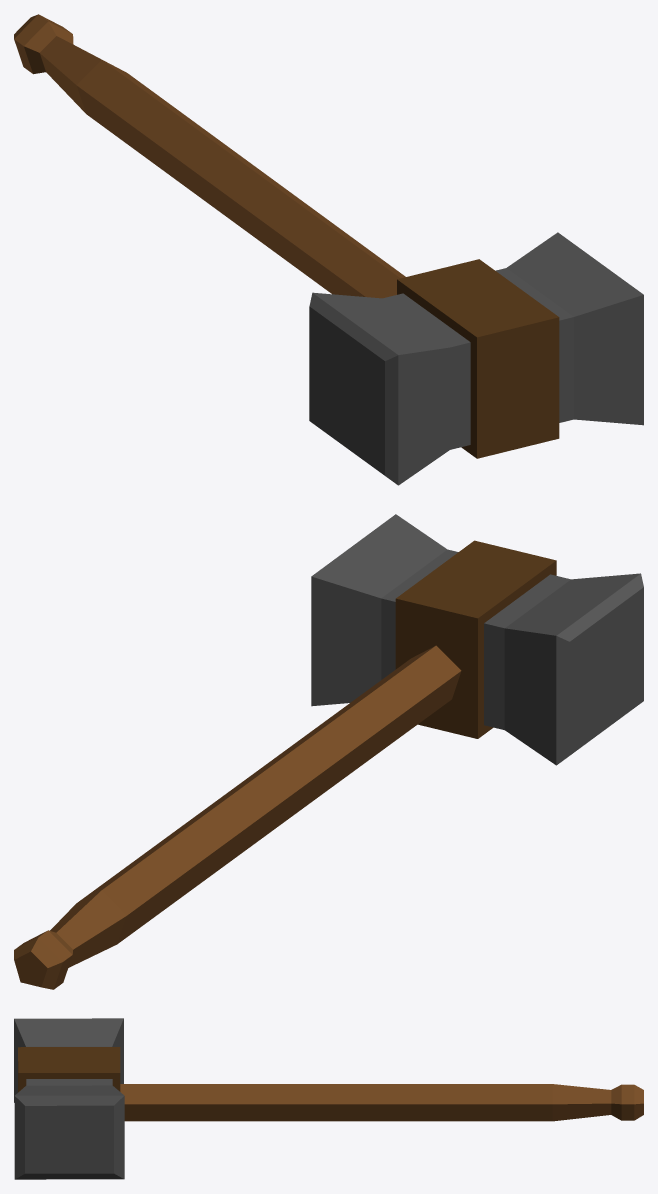
The model's file is F_LongHammer.fbx.
3 views of the same model, one above another, from view 1: azimuth 30°, elevation 25°; view 2: azimuth 150°, elevation 25°; view 3: azimuth 270°, elevation 25° (orthographic). The views are drawn at different scales.
Parts seen in each view (by area): view 1: F_LongHammer; view 2: F_LongHammer; view 3: F_LongHammer.
Part boxes in pixels (x1=…): F_LongHammer: x1=14, y1=14, x2=643, y2=485; F_LongHammer: x1=14, y1=514, x2=643, y2=989; F_LongHammer: x1=14, y1=1018, x2=643, y2=1179.
Bounding box in the file's own units: 55.88 × 26.65 × 182.
